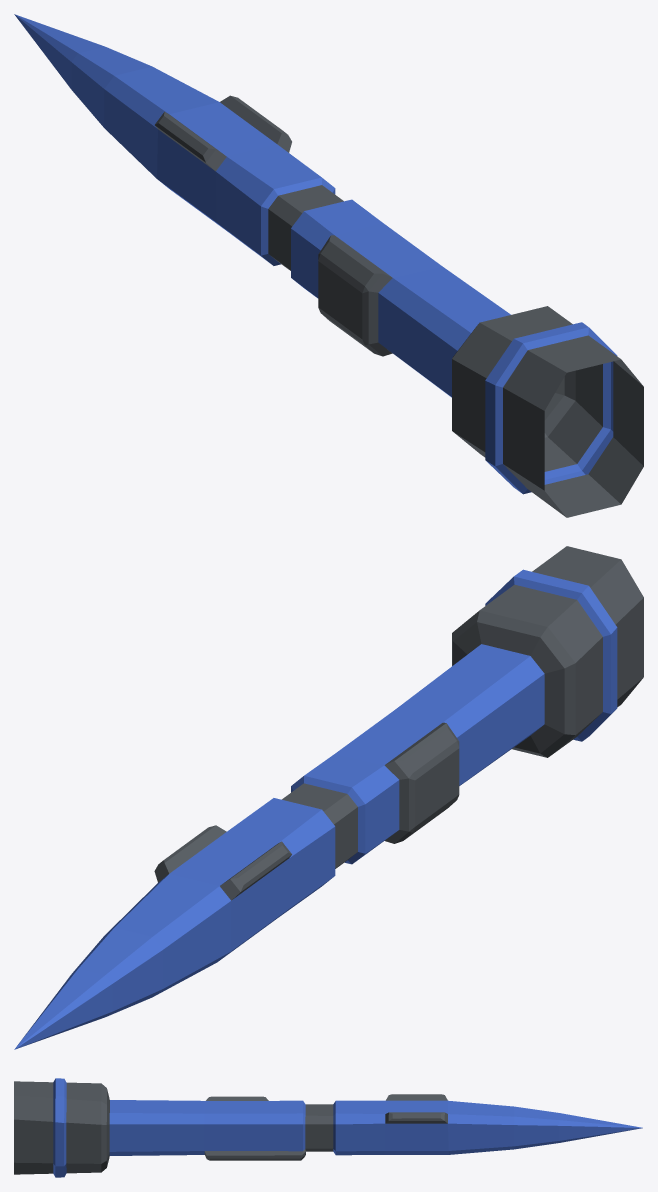
File: Mothership_02_Tip_Blue.fbx
The picture shows the model from 3 angles, top to bottom: view 1: azimuth 30°, elevation 25°; view 2: azimuth 150°, elevation 25°; view 3: azimuth 270°, elevation 25°; orthographic projection. The views are drawn at different scales.
Parts seen in each view (by area): view 1: Mothership_02_Tip_Blue; view 2: Mothership_02_Tip_Blue; view 3: Mothership_02_Tip_Blue.
Part boxes in pixels (bbox=[...]): Mothership_02_Tip_Blue: bbox=[14, 14, 643, 517]; Mothership_02_Tip_Blue: bbox=[14, 546, 643, 1049]; Mothership_02_Tip_Blue: bbox=[14, 1078, 642, 1177].
Bounding box in the file's own units: 283 × 324 × 2257.
1 material, 1 textured.
